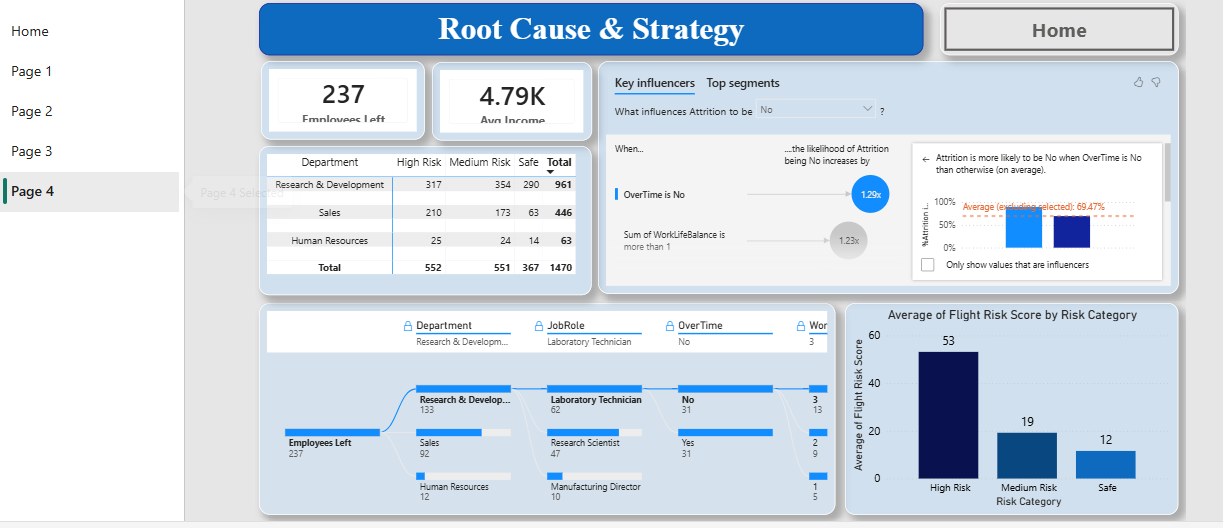

The page's visual inventory and layout, read from the dashboard file:
{"tool":"powerbi","page":{"name":" Page 4","canvas":[1280,720],"ordinal":4},"visuals":[{"type":"textbox","box":[5.9,8.8,913.2,71.7],"z":0},{"type":"cardVisual","fields":{"Data":["IBM_HR_Final_PowerBI.Employees Left"]},"box":[8.1,87.8,225.4,108.3],"z":1000},{"type":"cardVisual","fields":{"Data":["IBM_HR_Final_PowerBI.Avg Income (Attrition)"]},"box":[242.9,89.3,219.5,108.3],"z":2000},{"type":"decompositionTreeVisual","fields":{"Analyze":["IBM_HR_Final_PowerBI.Employees Left"],"ExplainBy":["IBM_HR_Final_PowerBI.Department","IBM_HR_Final_PowerBI.JobRole","IBM_HR_Final_PowerBI.OverTime","IBM_HR_Final_PowerBI.WorkLifeBalance","IBM_HR_Final_PowerBI.MonthlyIncome"]},"box":[5.9,420,791.7,291.2],"z":3000},{"type":"pivotTable","fields":{"Rows":["IBM_HR_Final_PowerBI.Department"],"Columns":["IBM_HR_Final_PowerBI.Risk_Category"],"Values":["CountNonNull(IBM_HR_Final_PowerBI.EmployeeCount)"]},"box":[5.9,204.9,456.6,204.9],"z":4000},{"type":"actionButton","box":[941,8.8,327.8,71.7],"z":5000},{"type":"keyDriversVisual","fields":{"Target":["IBM_HR_Final_PowerBI.Attrition"],"ExplainBy":["IBM_HR_Final_PowerBI.MonthlyIncome","Sum(IBM_HR_Final_PowerBI.WorkLifeBalance)","Sum(IBM_HR_Final_PowerBI.DistanceFromHome)","Sum(IBM_HR_Final_PowerBI.JobSatisfaction)","IBM_HR_Final_PowerBI.OverTime"]},"box":[471.2,87.8,797.6,320.5],"z":6000},{"type":"clusteredColumnChart","fields":{"Category":["IBM_HR_Final_PowerBI.Risk_Category"],"Y":["Avg(IBM_HR_Final_PowerBI.Flight_Risk_Score)"]},"box":[810.7,420,458,291.2],"z":7000}]}

Visuals, with their boxes on the page's 1280x720 design canvas (x1, y1, x2, y2). These are canvas units, not pixel positions in the 1223x528 screenshot, which may show the page scaled, cropped or inside an application window:
textbox: BBox(6, 9, 919, 80)
cardVisual - IBM_HR_Final_PowerBI.Employees Left: BBox(8, 88, 234, 196)
cardVisual - IBM_HR_Final_PowerBI.Avg Income (Attrition): BBox(243, 89, 462, 198)
decompositionTreeVisual - IBM_HR_Final_PowerBI.Employees Left x IBM_HR_Final_PowerBI.Department: BBox(6, 420, 798, 711)
pivotTable - IBM_HR_Final_PowerBI.Department x IBM_HR_Final_PowerBI.Risk_Category: BBox(6, 205, 462, 410)
actionButton: BBox(941, 9, 1269, 80)
keyDriversVisual - IBM_HR_Final_PowerBI.Attrition x IBM_HR_Final_PowerBI.MonthlyIncome: BBox(471, 88, 1269, 408)
clusteredColumnChart - IBM_HR_Final_PowerBI.Risk_Category x Avg(IBM_HR_Final_PowerBI.Flight_Risk_Score): BBox(811, 420, 1269, 711)
